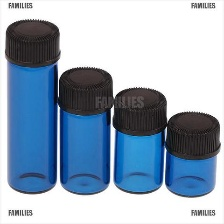bottle: (2, 14, 59, 198), (57, 60, 112, 197), (111, 86, 168, 198), (164, 107, 221, 201)
